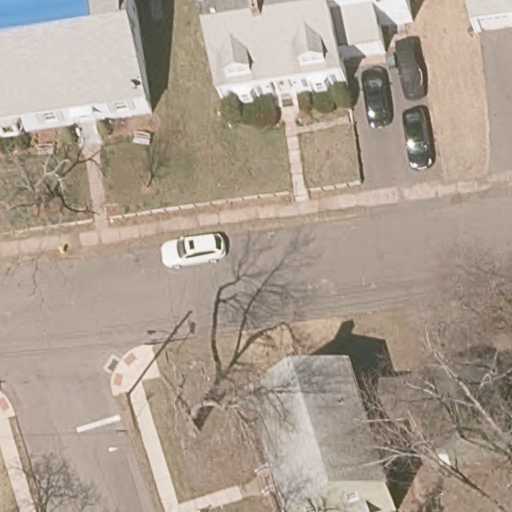DT: (116, 394, 151, 435)
